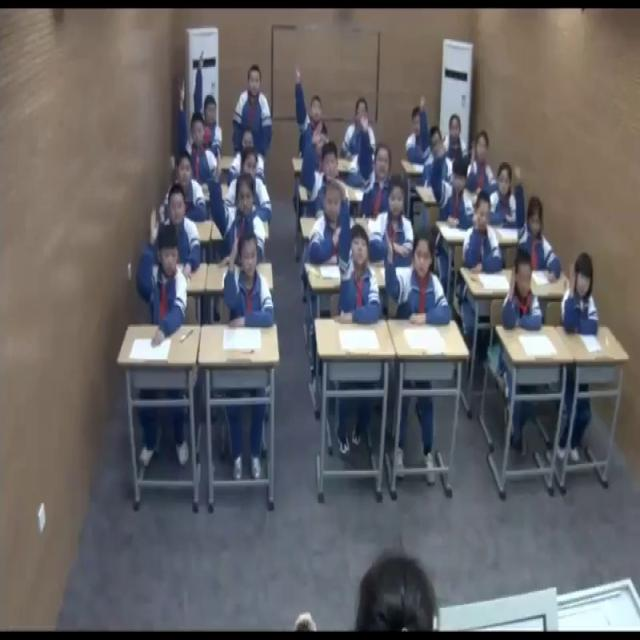focused: (369, 172, 417, 266), (306, 177, 347, 270), (233, 60, 272, 156), (462, 190, 504, 279), (166, 185, 204, 278), (228, 152, 274, 224), (487, 156, 523, 232), (340, 95, 379, 161), (229, 127, 268, 186), (446, 111, 468, 172)
raising_hand: (137, 210, 190, 348), (382, 227, 452, 329), (333, 178, 380, 327), (210, 147, 266, 262), (512, 158, 562, 284), (222, 224, 276, 334), (148, 185, 203, 277), (300, 120, 350, 215), (357, 109, 398, 218), (178, 76, 219, 182), (431, 130, 474, 228), (501, 248, 543, 335), (293, 64, 330, 158), (559, 250, 600, 334), (192, 50, 222, 155), (167, 151, 208, 223), (406, 89, 433, 168), (466, 128, 496, 196)
